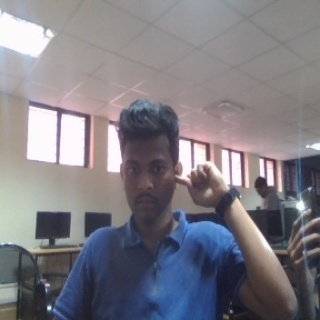Deaf: (175, 159, 228, 209)
Face: (115, 98, 183, 227)
